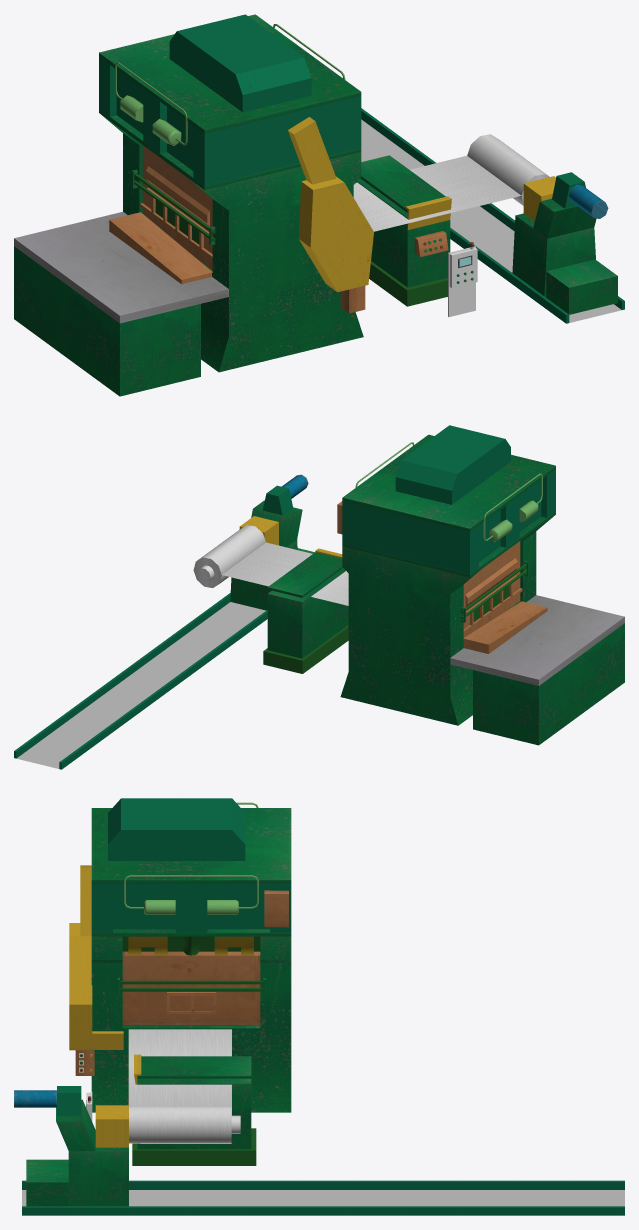
The picture shows the model from 3 angles, top to bottom: view 1: azimuth 30°, elevation 25°; view 2: azimuth 150°, elevation 25°; view 3: azimuth 270°, elevation 25°; orthographic projection. The views are drawn at different scales.
Parts seen in each view (by area): view 1: 330chongbeiji, 330kaijuanji; view 2: 330chongbeiji, 330kaijuanji; view 3: 330chongbeiji, 330kaijuanji.
Part boxes in pixels (x1,y1,x2,y2): 330chongbeiji: (14,14,477,396); 330kaijuanji: (353,108,624,323); 330chongbeiji: (263,425,624,745); 330kaijuanji: (14,474,348,769); 330chongbeiji: (69,798,291,1165); 330kaijuanji: (14,1029,624,1215).
Size of the model in its own units: 15.65 by 8.95 by 18.79.
Materials: 14 (8 with a texture image).
